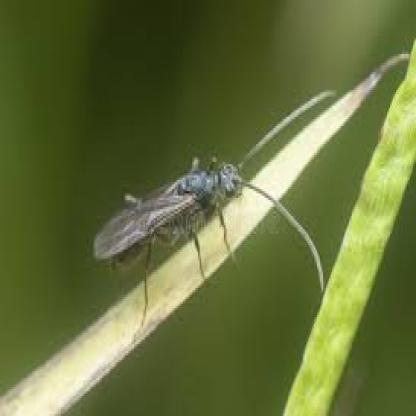sawfly: (88, 83, 347, 298)
